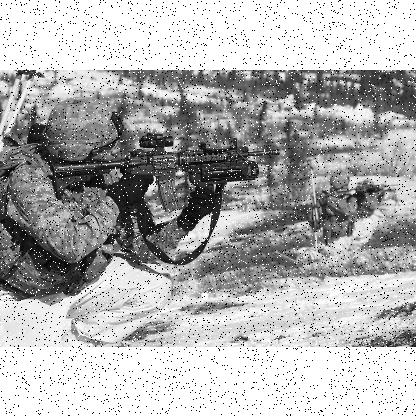gun: (52, 130, 280, 210), (52, 132, 278, 211), (335, 180, 397, 192)
